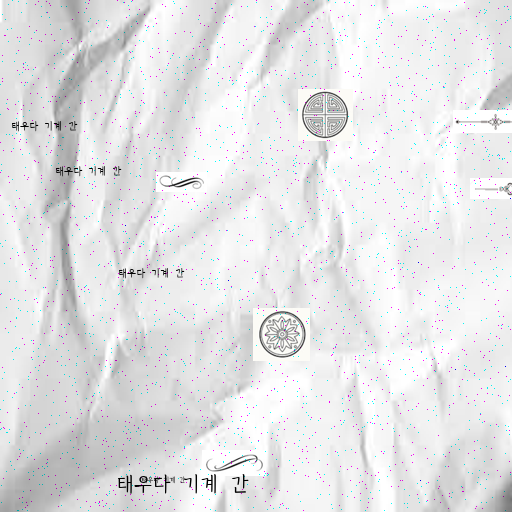text: (116, 473, 256, 493), (55, 165, 125, 175), (11, 120, 81, 130), (118, 267, 188, 277), (141, 476, 190, 483)
